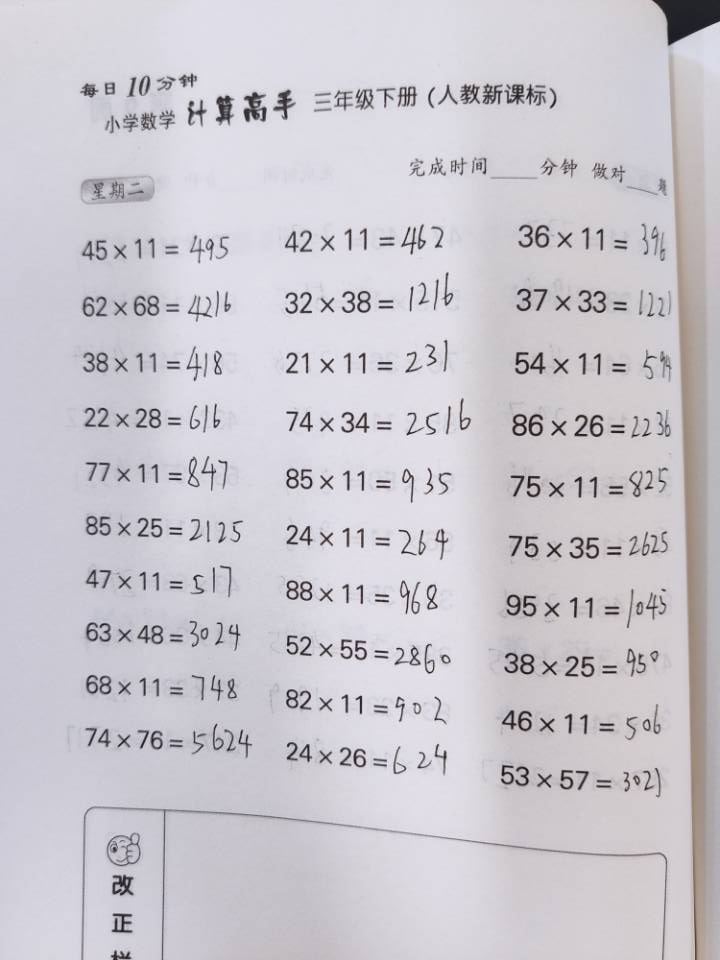equation: (551, 335, 600, 592), (295, 305, 337, 592), (248, 337, 292, 599), (467, 59, 512, 308), (201, 52, 245, 300), (342, 57, 383, 305), (454, 616, 494, 869), (536, 619, 573, 883), (566, 61, 602, 331), (160, 352, 200, 593), (436, 47, 473, 307), (336, 617, 375, 863), (254, 53, 292, 305), (206, 345, 243, 593), (300, 51, 335, 301), (516, 333, 547, 612), (500, 628, 536, 864), (163, 55, 197, 295), (256, 641, 292, 867), (167, 636, 201, 869), (419, 628, 452, 868), (384, 619, 415, 872), (392, 55, 424, 296), (525, 56, 555, 309), (297, 651, 332, 861), (216, 639, 245, 869)
w: (461, 323, 509, 600), (339, 325, 379, 593), (422, 336, 461, 588), (388, 336, 420, 593)
